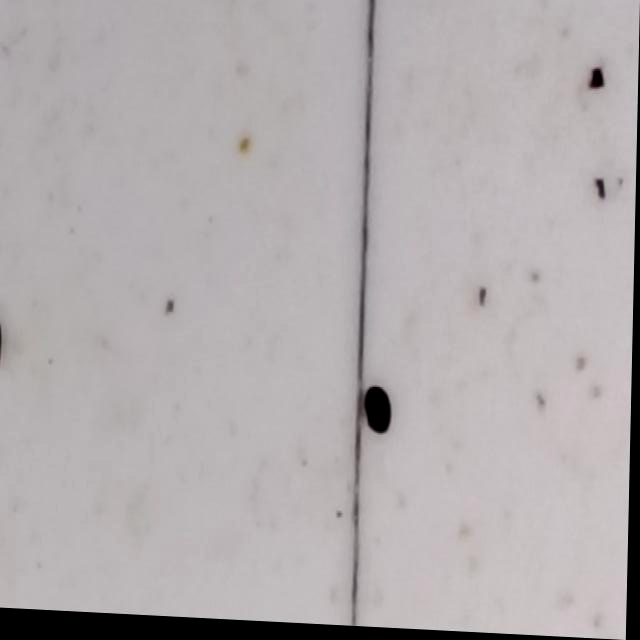varroa: (360, 387, 396, 442)
